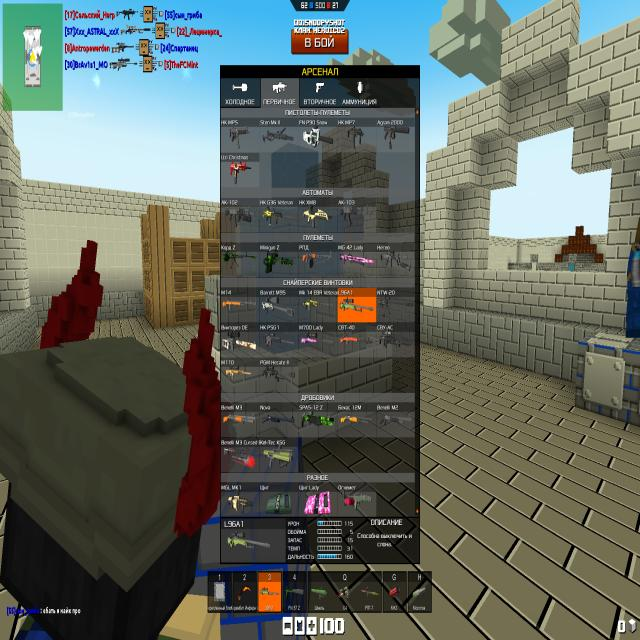player: (1, 296, 228, 640)
